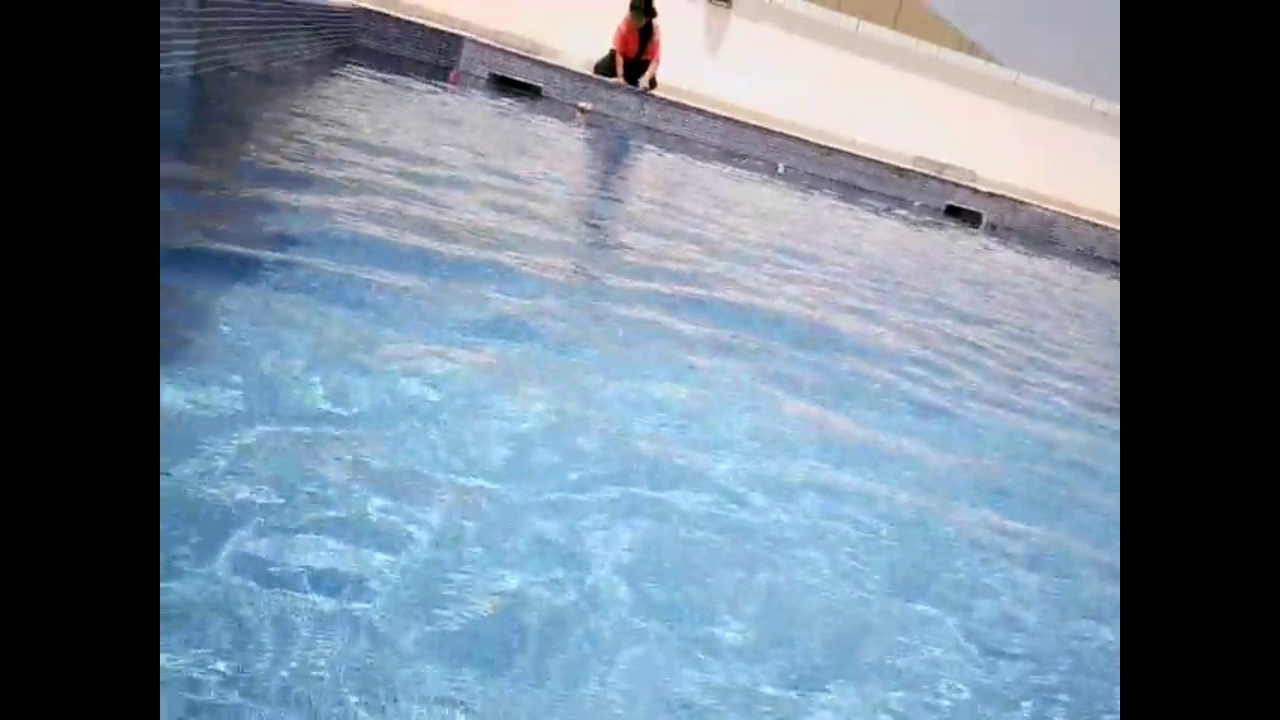debris: (570, 96, 597, 117), (445, 67, 467, 87), (770, 159, 790, 176)
